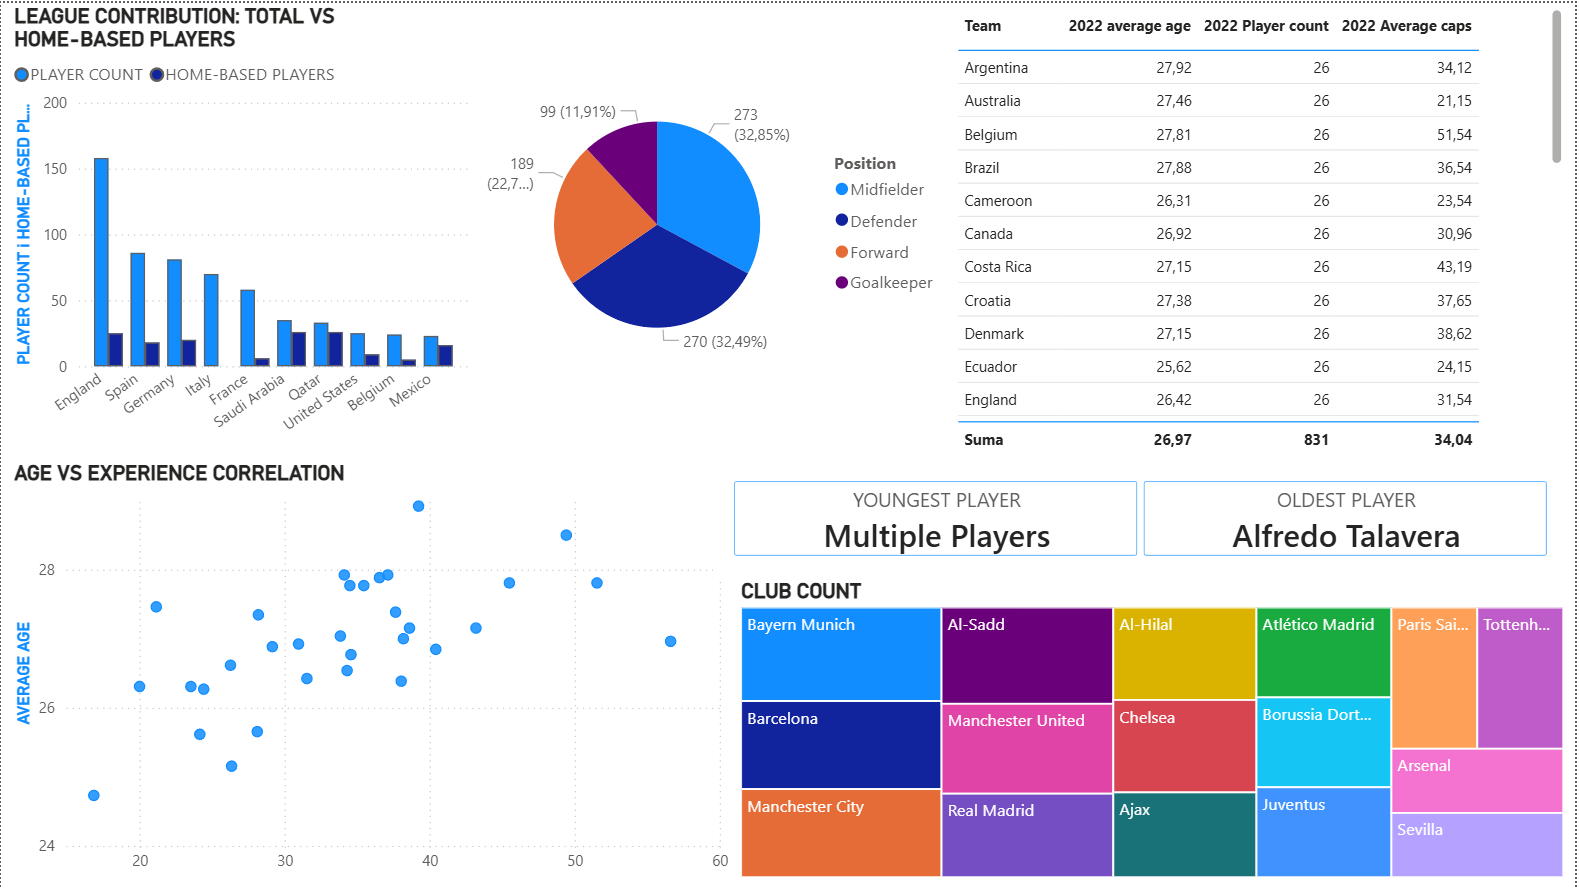

The page's visual inventory and layout, read from the dashboard file:
{"tool":"powerbi","page":{"name":"Qatar 2022 Squad Insights","canvas":[1280,720],"ordinal":2},"visuals":[{"type":"tableEx","fields":{"Values":["2022_world_cup_groups.Team","_Measures.2022 average age","_Measures.2022 Player count","_Measures.2022 Average caps"]},"box":[772.6,0,507.5,371.7],"z":0},{"type":"clusteredColumnChart","title":"LEAGUE CONTRIBUTION: TOTAL VS HOME-BASED PLAYERS","fields":{"Category":["2022_world_cup_squads.League"],"Y":["_Measures.2022 Player count","_Measures.2022 Home-based players"]},"box":[0,0,384.9,371.7],"z":1000},{"type":"treemap","title":"CLUB COUNT","fields":{"Values":["_Measures.2022 Player count"],"Group":["2022_world_cup_squads.Club"]},"box":[596.2,467,684,252.8],"z":2000},{"type":"slicer","fields":{"Values":["2022_world_cup_squads.Team"]},"box":[79.2,364.2,347.2,73.6],"z":3000},{"type":"scatterChart","title":"AGE VS EXPERIENCE CORRELATION","fields":{"X":["_Measures.2022 Average caps"],"Y":["_Measures.2022 average age"],"Category":["2022_world_cup_groups.Team"]},"box":[0,371.7,596.2,348.1],"z":4000},{"type":"pieChart","fields":{"Y":["_Measures.2022 Player count"],"Category":["2022_world_cup_squads.Position"]},"box":[384.9,0,387.7,360.4],"z":5000},{"type":"cardVisual","fields":{"Data":["_Measures.2022 Youngest Player Name","_Measures.2022 Oldest Player Name"]},"box":[579.2,371.7,700.9,95.3],"z":6000}]}

Visuals, with their boxes in screenshot pixels (x1, y1, x2, y2), scaled from the page's 1280x720 canvas onto the 1579x888 screenshot:
tableEx - 2022_world_cup_groups.Team x _Measures.2022 average age: <bbox>953, 0, 1578, 458</bbox>
"LEAGUE CONTRIBUTION: TOTAL VS HOME-BASED PLAYERS" clusteredColumnChart: <bbox>0, 0, 475, 458</bbox>
"CLUB COUNT" treemap: <bbox>735, 576, 1578, 887</bbox>
slicer - 2022_world_cup_squads.Team: <bbox>98, 449, 526, 540</bbox>
"AGE VS EXPERIENCE CORRELATION" scatterChart: <bbox>0, 458, 735, 887</bbox>
pieChart - _Measures.2022 Player count x 2022_world_cup_squads.Position: <bbox>475, 0, 953, 444</bbox>
cardVisual - _Measures.2022 Youngest Player Name x _Measures.2022 Oldest Player Name: <bbox>714, 458, 1578, 576</bbox>
